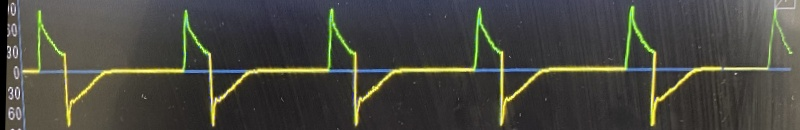normal_flow: (25, 1, 719, 130)
